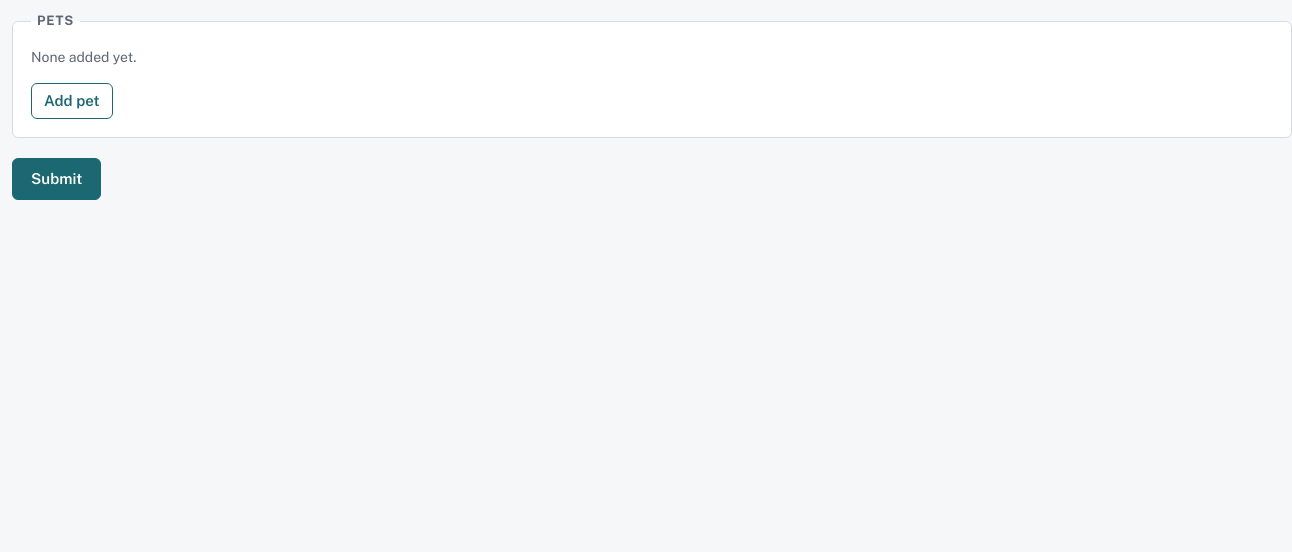
Test case: branches, defaults and arrays › adds and removes array items, respecting maxItems
Expected: the text "None added yet." is shown, [31, 49, 136, 65]
Click the button "Add pet".
click(72, 101)  # box [31, 83, 112, 119]
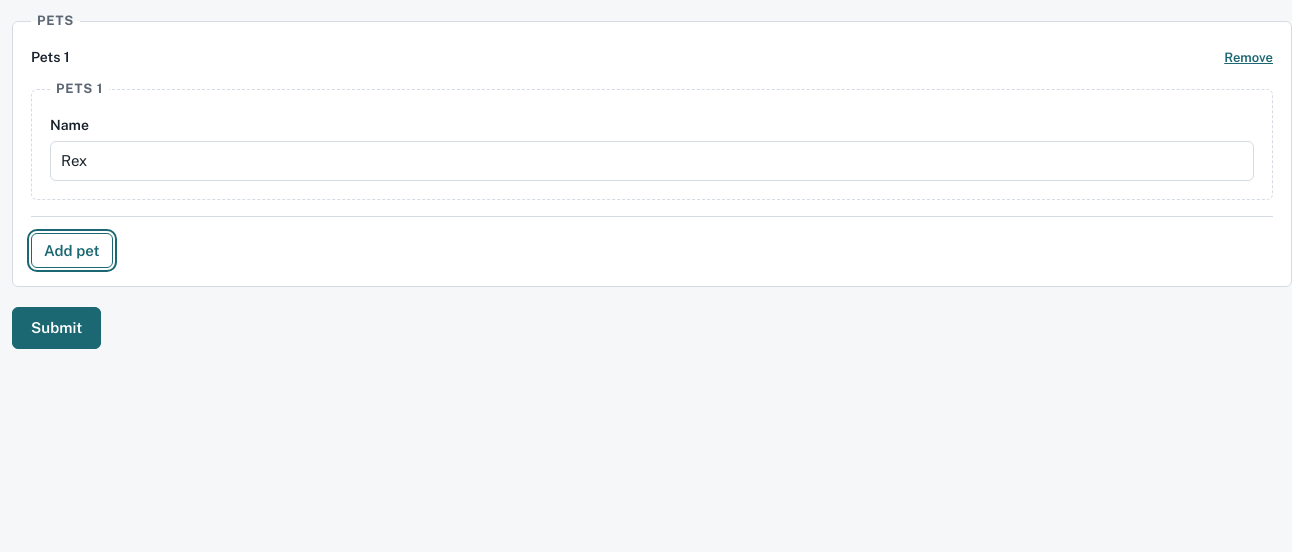
Click the button "Add pet".
click(72, 250)  # box [31, 233, 112, 268]
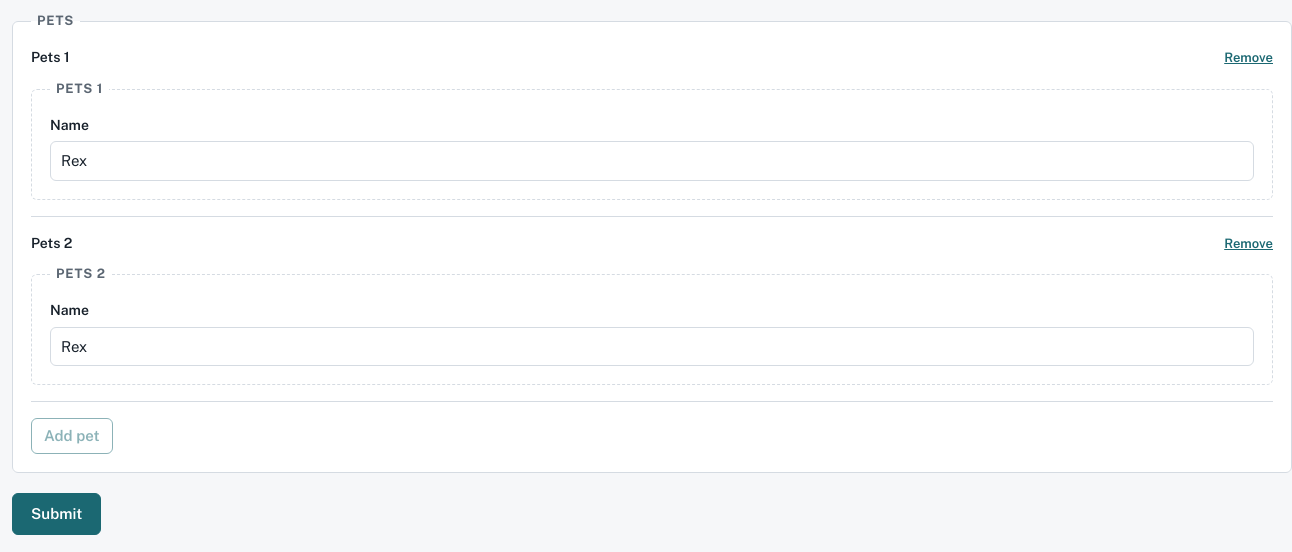
Expected: the button "Add pet" is disabled, [31, 418, 112, 454]
Replace the text in the 2nd field labelled "Name" with "Tom" at (652, 346), box [50, 327, 1254, 366]
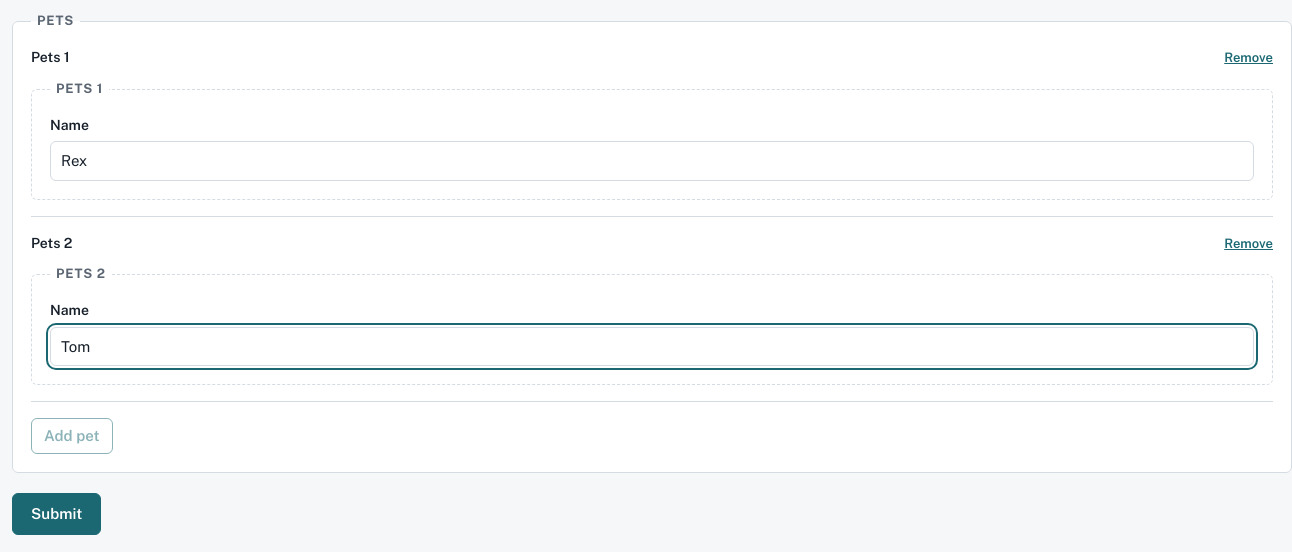
Click the 1st button "Remove".
click(1249, 58)  # box [1224, 49, 1273, 68]
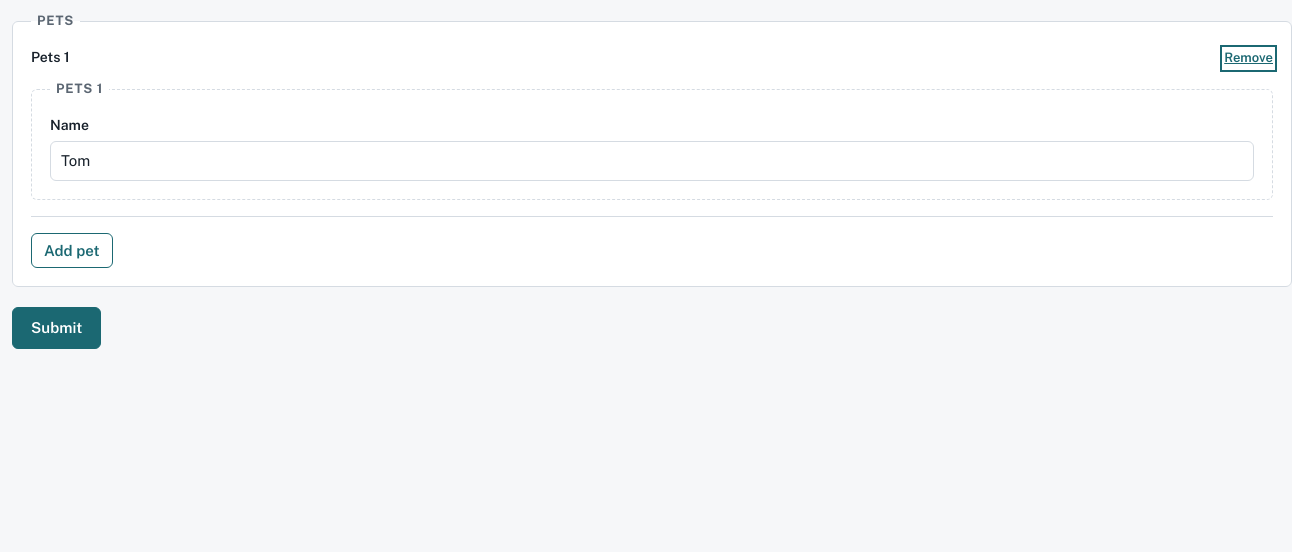
Expected: the button "Add pet" is enabled, [31, 233, 112, 268]
